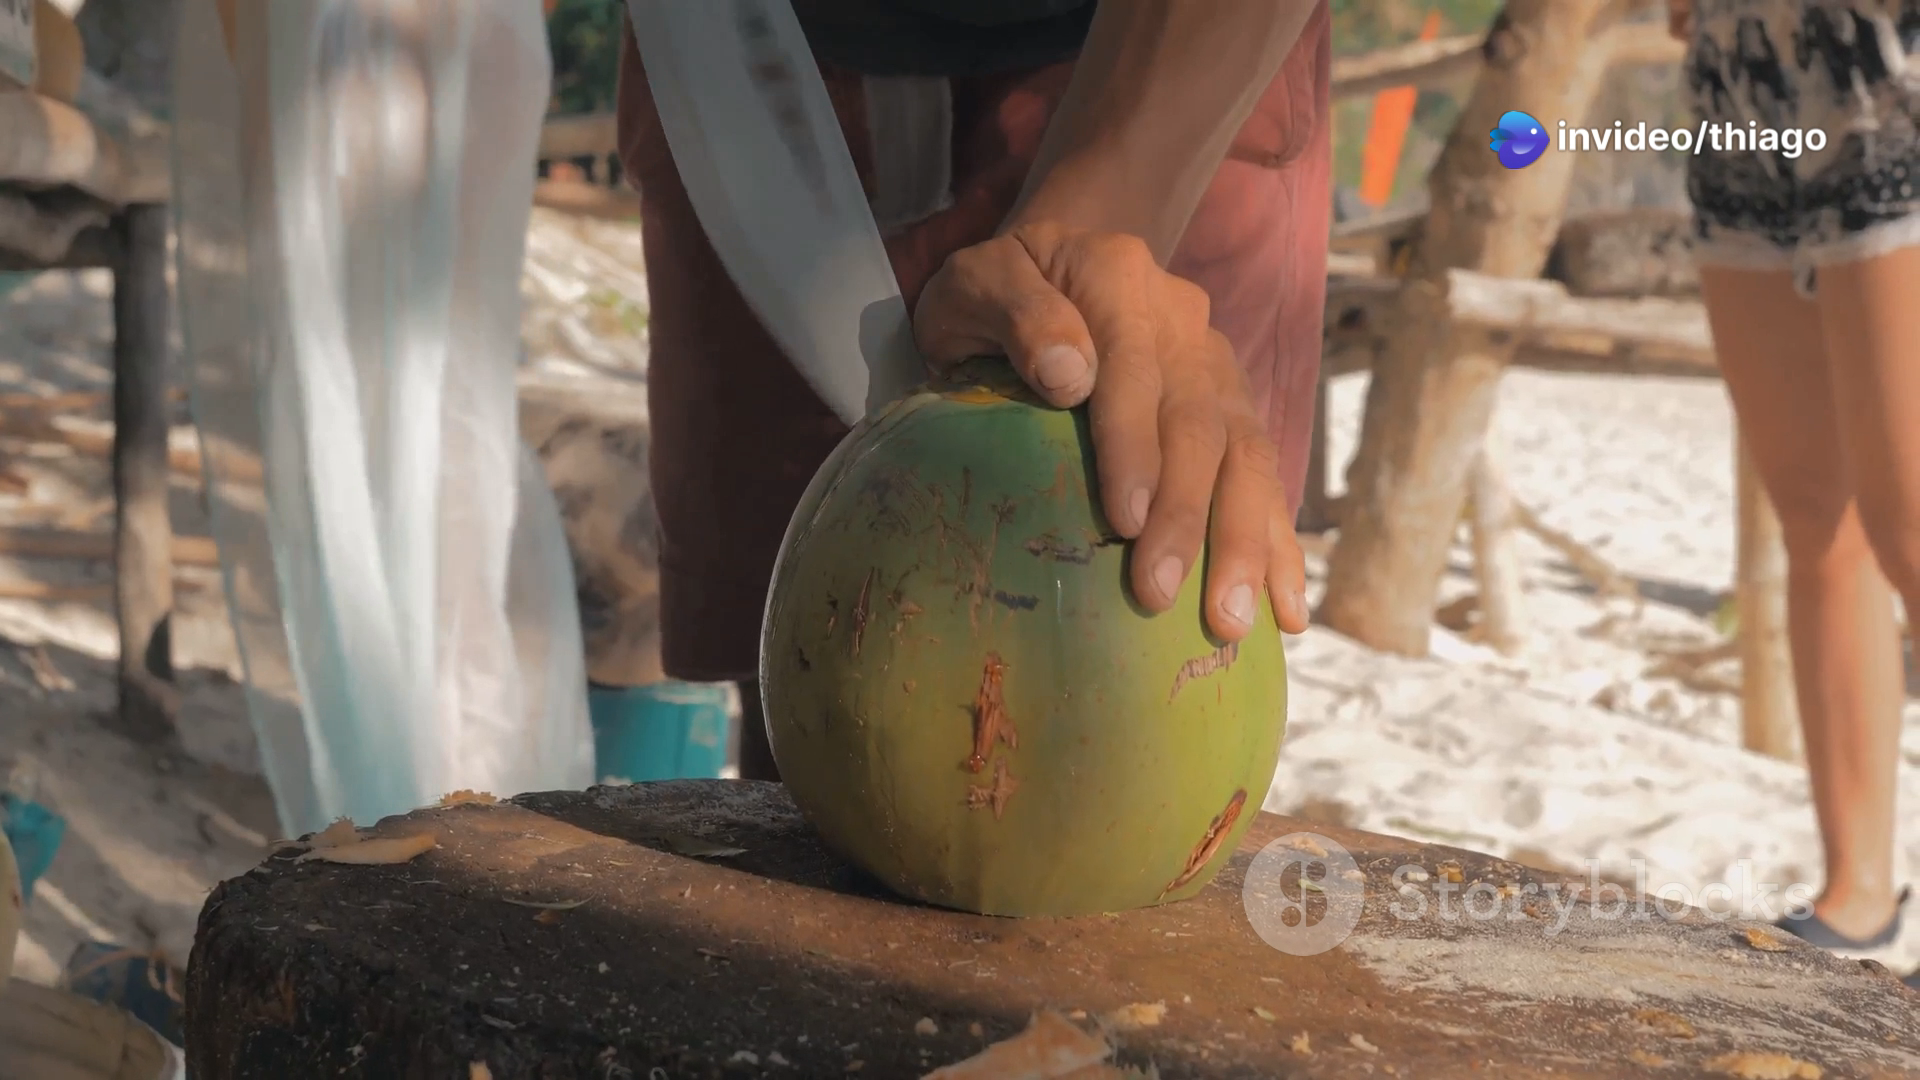cortante: (628, 0, 938, 431)
